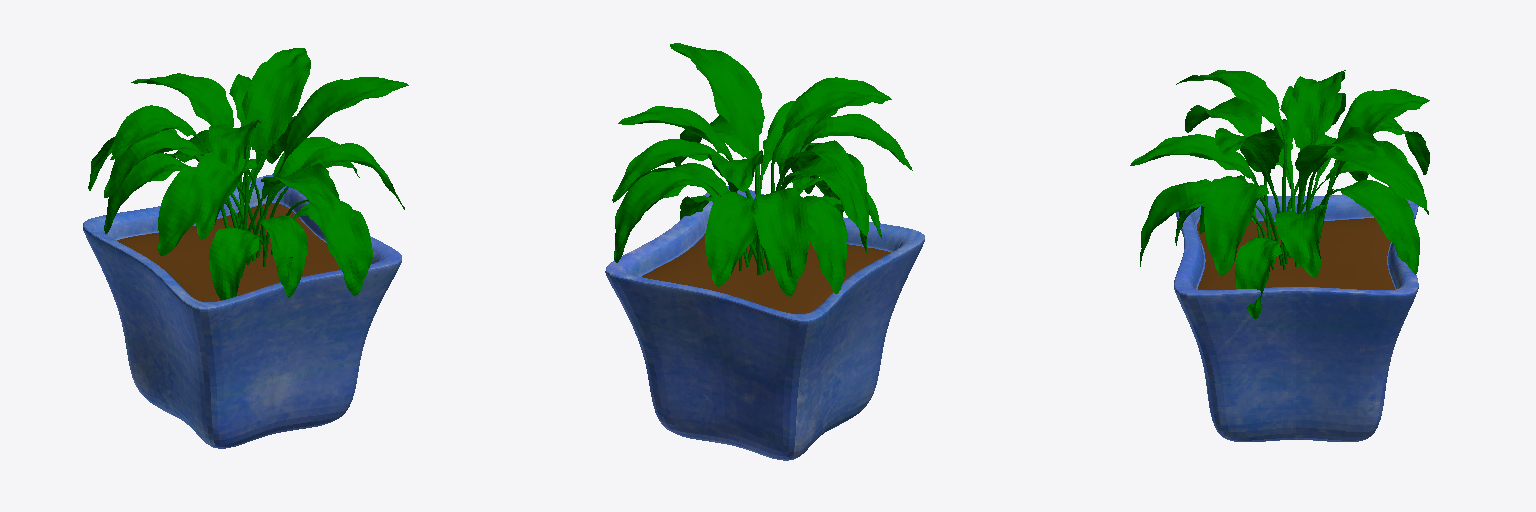
3 renders of one model, left to right at view 1: azimuth 30°, elevation 25°; view 2: azimuth 150°, elevation 25°; view 3: azimuth 270°, elevation 25°, orthographic.
Parts seen in each view (by area): view 1: maceta_rara.002, Plant_Spathiphyllum_A_spring-summer-autumn.004, Tierraa.002; view 2: maceta_rara.002, Plant_Spathiphyllum_A_spring-summer-autumn.004, Tierraa.002; view 3: Plant_Spathiphyllum_A_spring-summer-autumn.004, maceta_rara.002, Tierraa.002.
Part boxes in pixels (bbox=[...]): maceta_rara.002: bbox=[83, 174, 401, 448]; Plant_Spathiphyllum_A_spring-summer-autumn.004: bbox=[88, 48, 408, 300]; Tierraa.002: bbox=[117, 203, 340, 301]; maceta_rara.002: bbox=[605, 186, 924, 460]; Plant_Spathiphyllum_A_spring-summer-autumn.004: bbox=[612, 43, 912, 296]; Tierraa.002: bbox=[642, 233, 890, 313]; Plant_Spathiphyllum_A_spring-summer-autumn.004: bbox=[1130, 70, 1429, 318]; maceta_rara.002: bbox=[1174, 194, 1418, 441]; Tierraa.002: bbox=[1197, 218, 1394, 289].
Size of the model in its own units: 0.2266 by 0.2885 by 0.235.
3 materials, 3 textured.